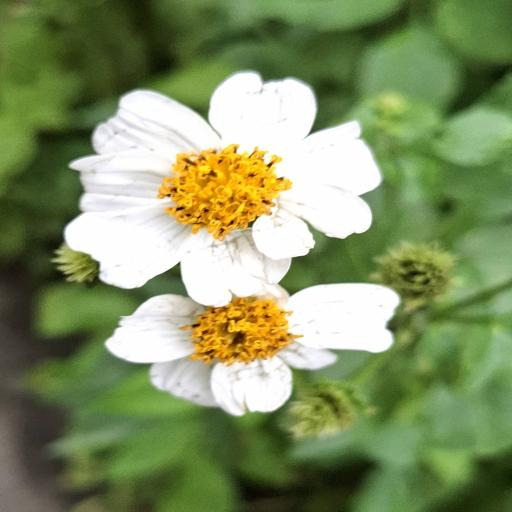Bidens: (45, 70, 383, 305), (91, 277, 415, 422)
